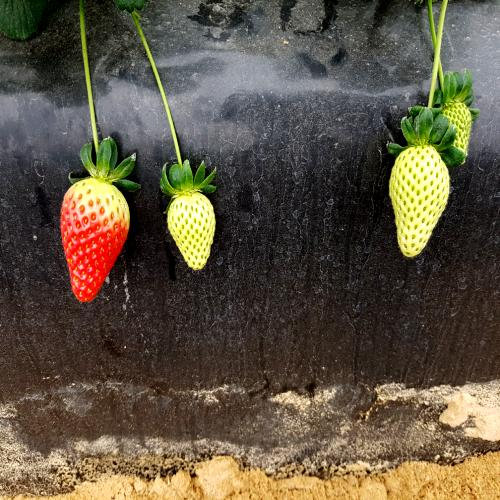partially-ripe: (57, 152, 136, 310)
